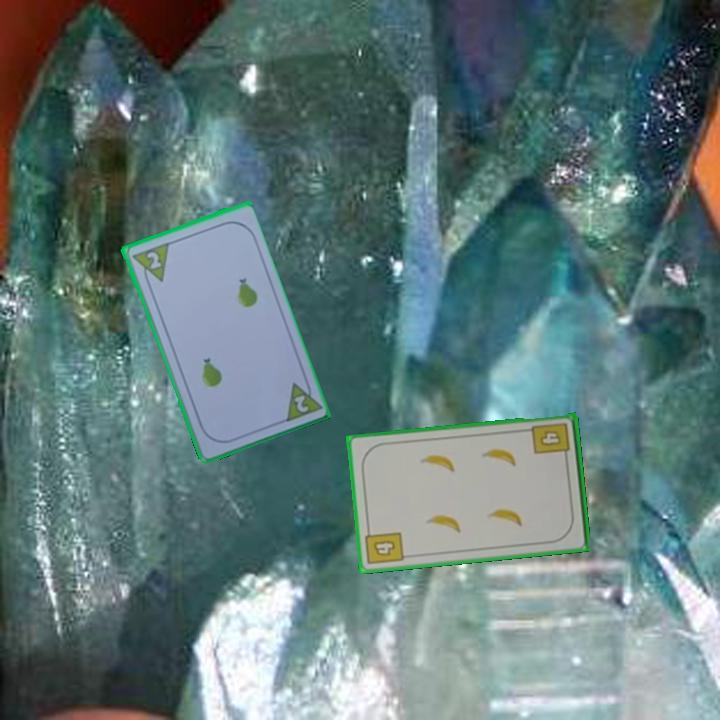2p: (128, 239, 171, 289), (290, 391, 311, 415)
4b: (362, 524, 406, 568), (529, 419, 573, 463)
